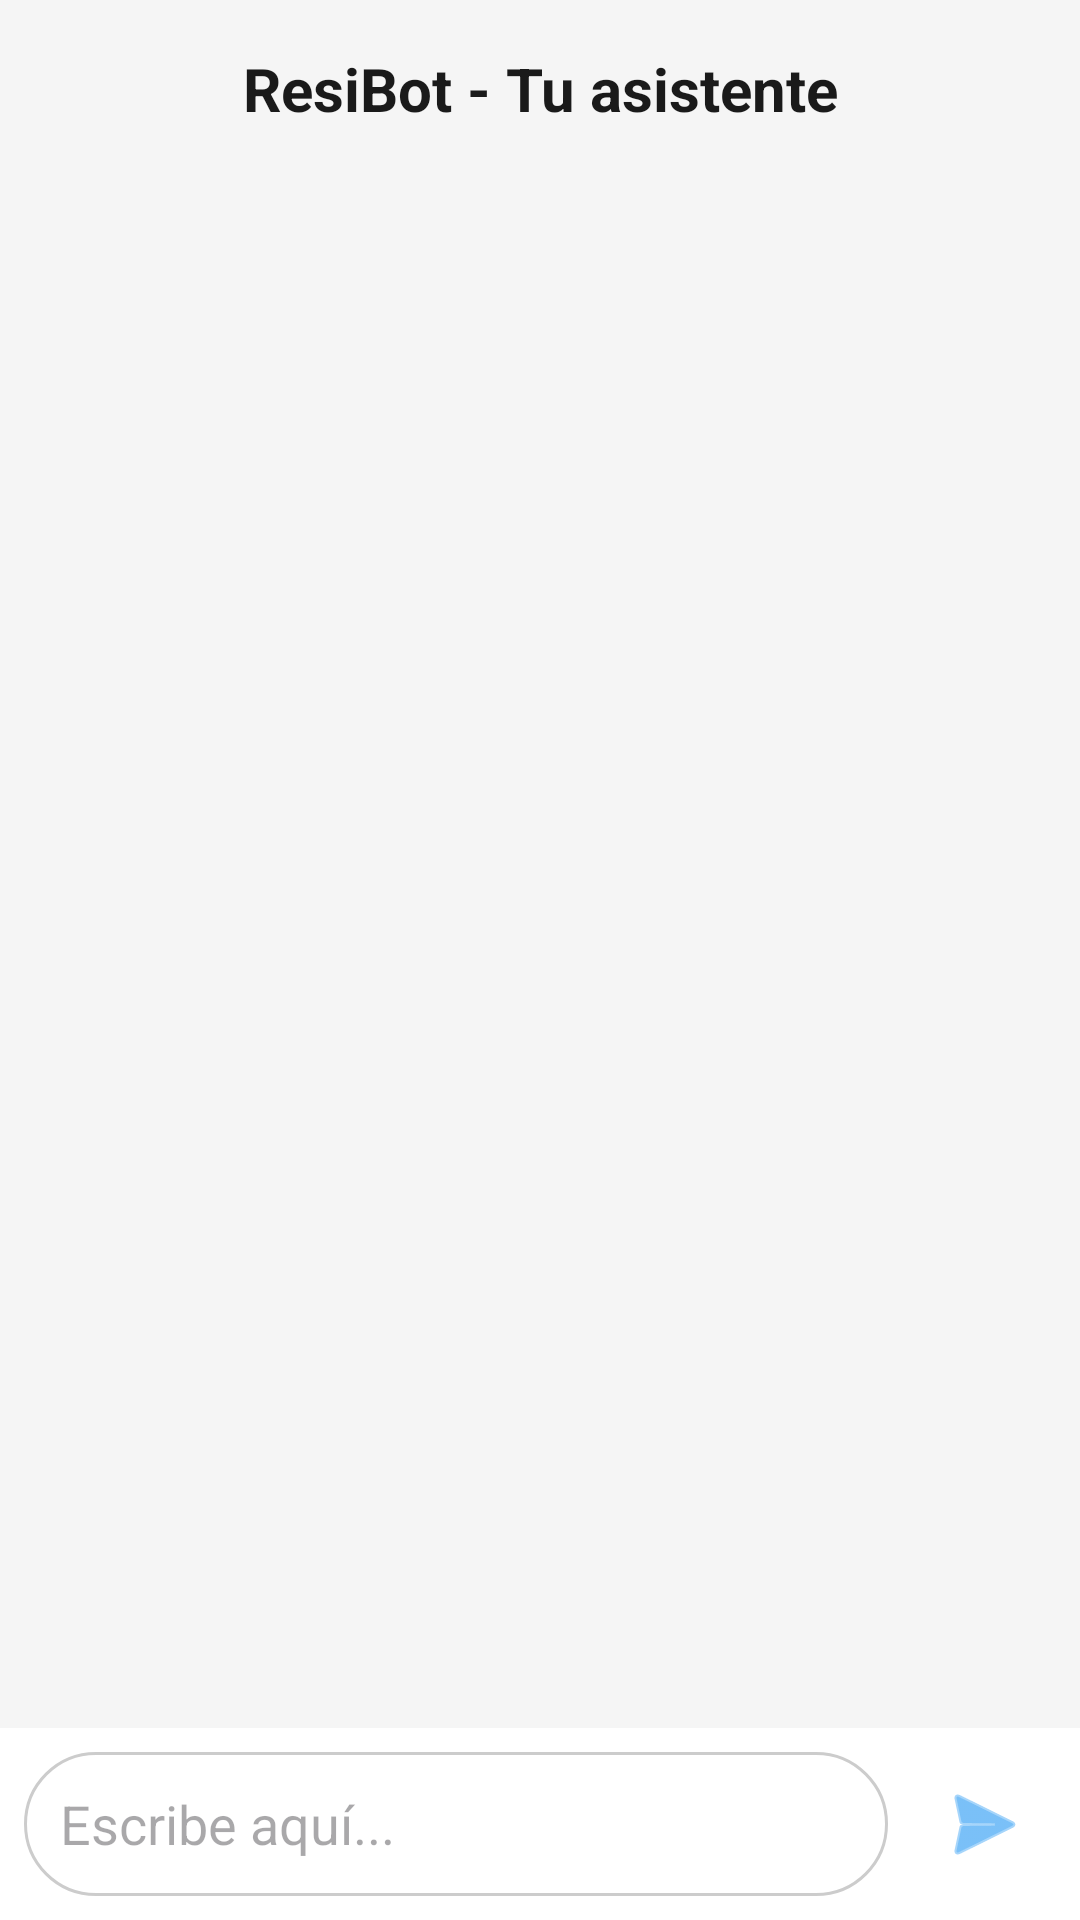

Where icons sit on this 1080px x 1920px app screen, as [left=x1, top=y1, right=x2, bottom=y2]:
Enviar: [left=954, top=1794, right=1016, bottom=1855]
